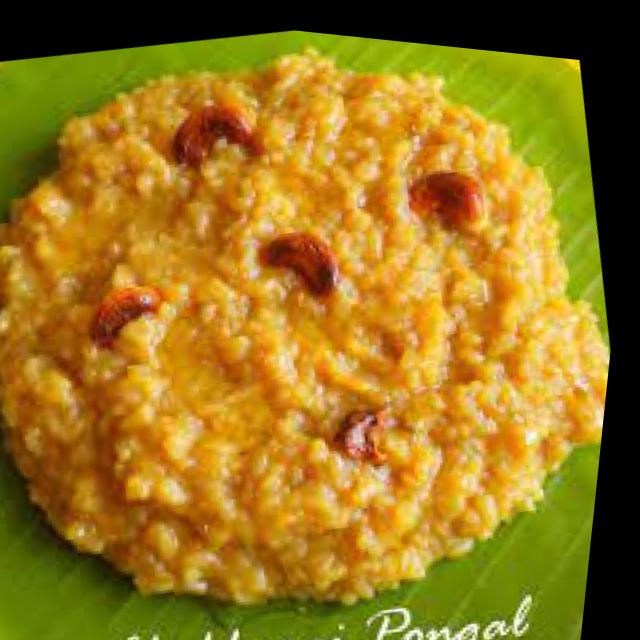PONGAL: (0, 51, 607, 601)
